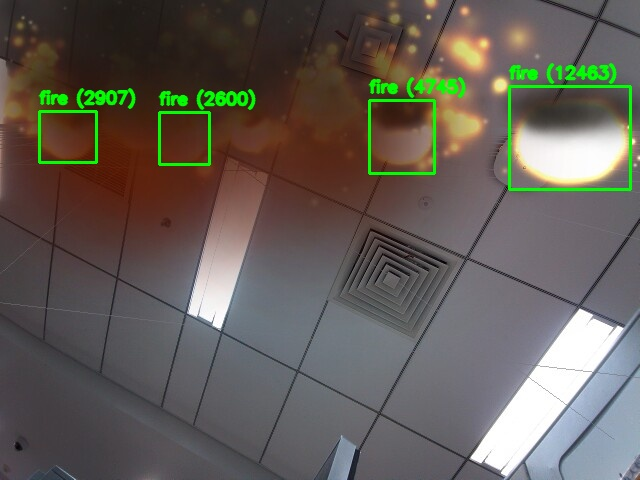fire: (509, 86, 630, 189), (369, 100, 434, 173), (39, 111, 96, 162), (159, 112, 209, 164)
